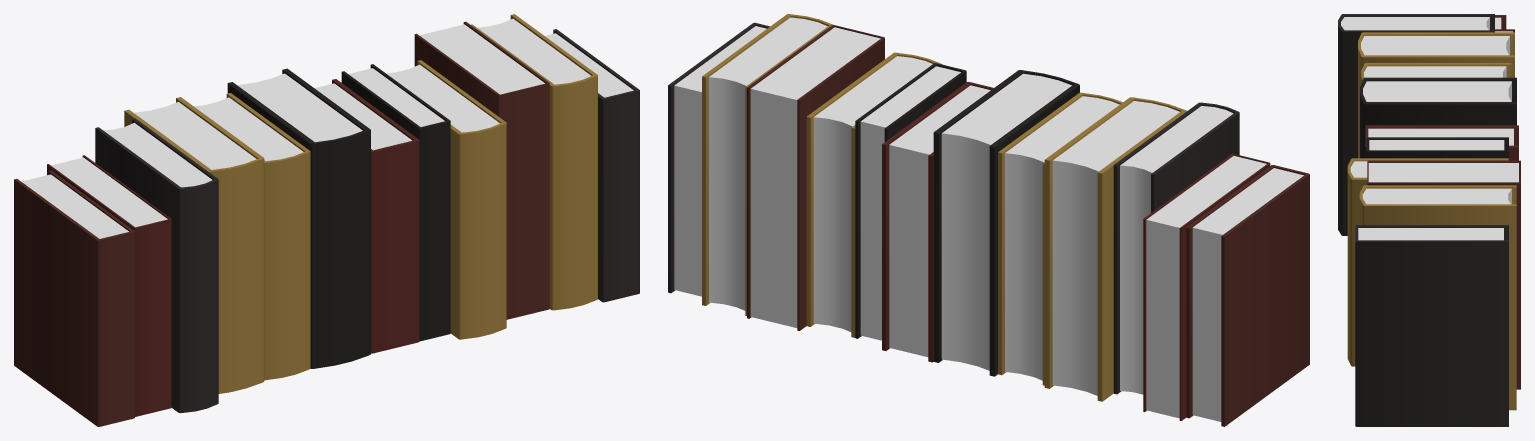
Rendered from 067_books_long.glb.
The picture shows the model from 3 angles, left to right: view 1: azimuth 30°, elevation 25°; view 2: azimuth 150°, elevation 25°; view 3: azimuth 270°, elevation 25°; orthographic projection. The views are drawn at different scales.
Parts seen in each view (by area): view 1: Plane, Plane.006, Plane.002, Plane.009, Plane.003, Plane.008, Plane.010, Plane.005, Plane.007, Plane.001, Plane.011, Plane.004; view 2: Plane, Plane.003, Plane.006, Plane.009, Plane.002, Plane.010, Plane.008, Plane.005, Plane.007, Plane.001, Plane.004, Plane.011; view 3: Plane.011, Plane.006, Plane.010, Plane.002, Plane.003, Plane.009, Plane.004, Plane.008, Plane.007, Plane.005.
Part boxes in pixels (x1,y1,x2,y2): Plane: [14, 170, 134, 426]; Plane.006: [227, 68, 370, 368]; Plane.002: [95, 118, 218, 413]; Plane.009: [414, 21, 549, 319]; Plane.003: [124, 97, 264, 393]; Plane.008: [386, 60, 506, 339]; Plane.010: [471, 14, 597, 310]; Plane.005: [194, 93, 310, 380]; Plane.007: [314, 79, 419, 353]; Plane.001: [47, 155, 171, 416]; Plane.011: [545, 29, 639, 302]; Plane.004: [341, 64, 450, 341]; Plane: [1186, 165, 1309, 426]; Plane.003: [1044, 97, 1186, 401]; Plane.006: [933, 70, 1079, 376]; Plane.009: [747, 25, 884, 330]; Plane.002: [1113, 102, 1239, 394]; Plane.010: [702, 14, 833, 315]; Plane.008: [806, 52, 942, 337]; Plane.005: [998, 92, 1122, 385]; Plane.007: [882, 82, 993, 362]; Plane.001: [1143, 153, 1270, 420]; Plane.004: [855, 63, 966, 340]; Plane.011: [668, 22, 769, 296]; Plane.011: [1355, 225, 1508, 426]; Plane.006: [1360, 77, 1516, 158]; Plane.010: [1359, 185, 1516, 410]; Plane.002: [1338, 14, 1494, 235]; Plane.003: [1358, 32, 1514, 158]; Plane.009: [1367, 160, 1520, 389]; Plane.004: [1366, 137, 1508, 160]; Plane.008: [1347, 158, 1508, 366]; Plane.007: [1365, 125, 1518, 160]; Plane.005: [1361, 63, 1511, 83].
Bounding box in the file's own units: 1.89 × 0.7497 × 0.6029.
